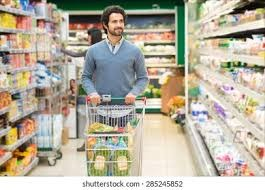with_basket: (83, 93, 145, 177)
without_mask: (102, 5, 126, 36)
